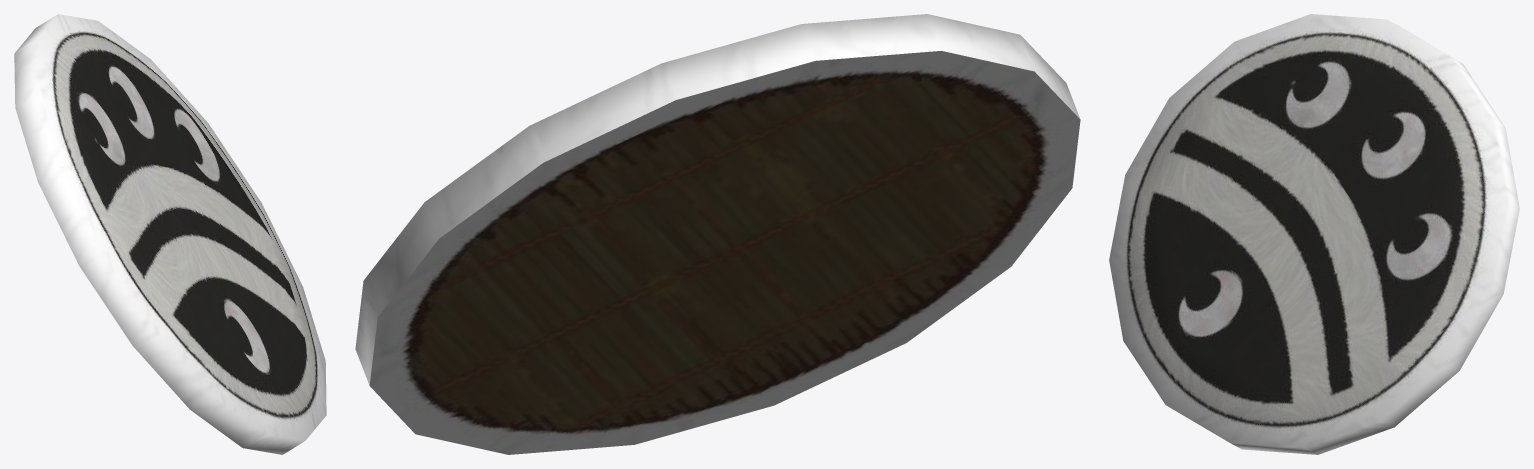
Rendered from shield-featheredshields.glb.
3 views of the same model, side by side, from view 1: azimuth 30°, elevation 25°; view 2: azimuth 150°, elevation 25°; view 3: azimuth 270°, elevation 25° (orthographic). The views are drawn at different scales.
Size of the model in its own units: 0.3292 by 0.3507 by 0.3771.
Materials: 1 (1 with a texture image).
